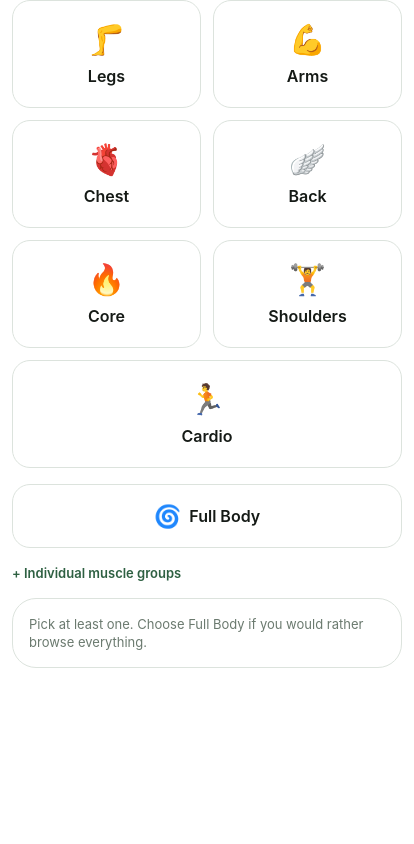
WorkoutTypePicker › reaches the exact split people ask for through the finer muscle groups
The width and height of the screenshot is (414, 844).
Step 1. Click the checkbox labelled "Chest" → (106, 174), box 12,120 -> 201,228
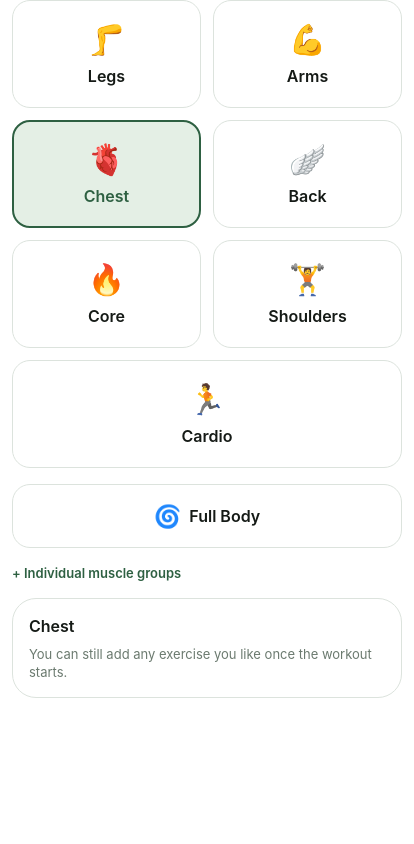
Folded away by default so the first screen stays a glanceable grid.
Step 2. Click the button with aria-label "Show individual muscle groups" → (97, 573), box 12,564 -> 402,582
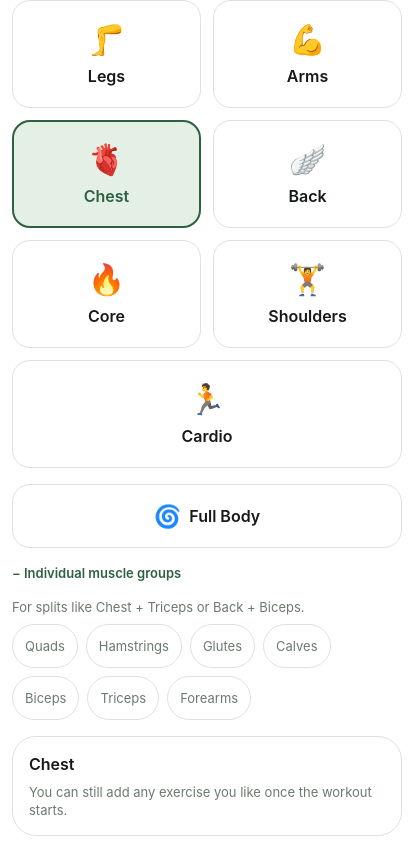
Step 3. Click the checkbox labelled "Triceps" → (123, 698), box 88,676 -> 159,720
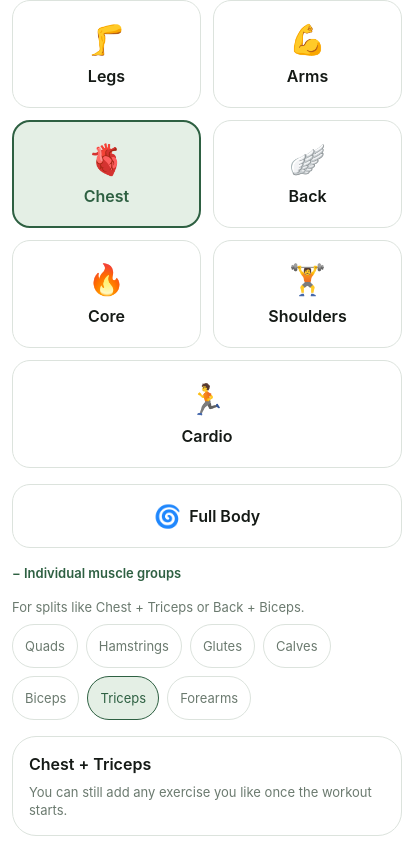
expect the text "Chest + Triceps" is shown: met, box 29,754 -> 151,774
